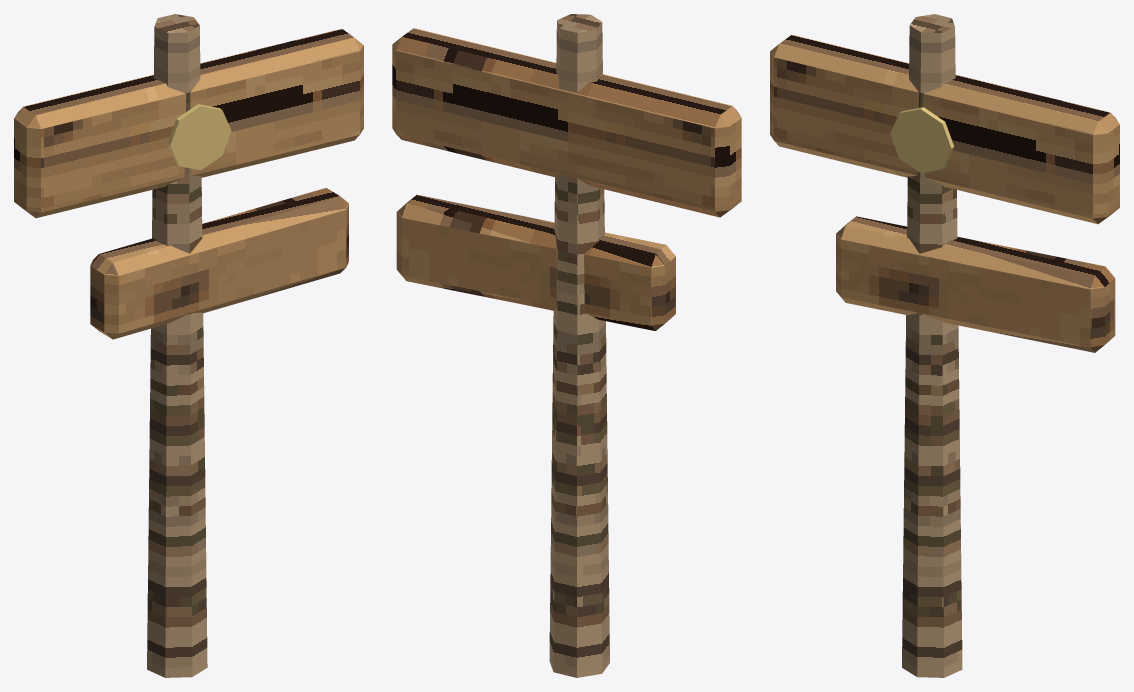
The model's file is enfeite_placa.glb.
The picture shows the model from 3 angles, left to right: view 1: azimuth 30°, elevation 25°; view 2: azimuth 150°, elevation 25°; view 3: azimuth 330°, elevation 25°; orthographic projection.
Visible parts, largest first — view 1: deserto_enfeite_placa; view 2: deserto_enfeite_placa; view 3: deserto_enfeite_placa.
Part boxes in pixels (left/top/right/bottom): deserto_enfeite_placa: left=14, top=14, right=363, bottom=677; deserto_enfeite_placa: left=392, top=14, right=741, bottom=677; deserto_enfeite_placa: left=770, top=14, right=1119, bottom=677.
Bounding box in the file's own units: 0.55 × 1 × 0.099.
Materials: 3 (2 with a texture image).
